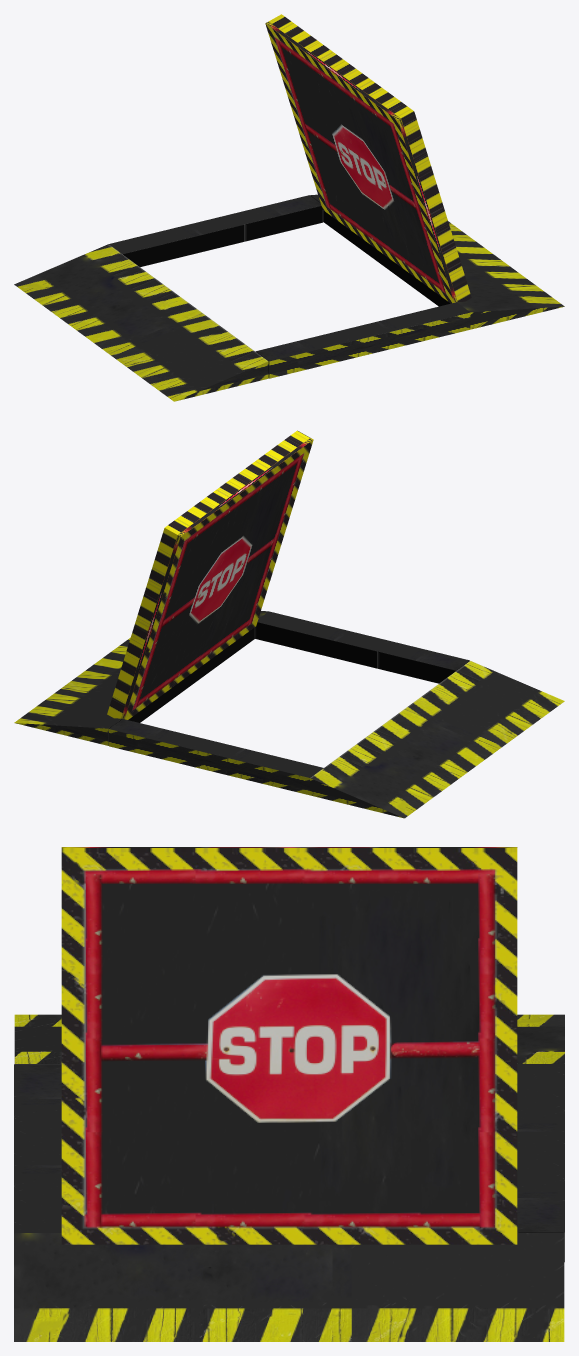
The model's file is armybarrir1.fbx.
3 views of the same model, one above another, from view 1: azimuth 30°, elevation 25°; view 2: azimuth 150°, elevation 25°; view 3: azimuth 270°, elevation 25° (orthographic). The views are drawn at different scales.
Visible parts, largest first — view 1: pCube5, pCube4; view 2: pCube5, pCube4; view 3: pCube4, pCube5.
Part boxes in pixels (x1,y1,x2,y2): pCube5: (14,194,564,401); pCube4: (265,14,471,303); pCube5: (14,611,564,818); pCube4: (107,430,313,719); pCube4: (61,847,517,1244); pCube5: (14,1014,564,1341).
Bounding box in the file's own units: 3.06 × 1.64 × 2.18.
